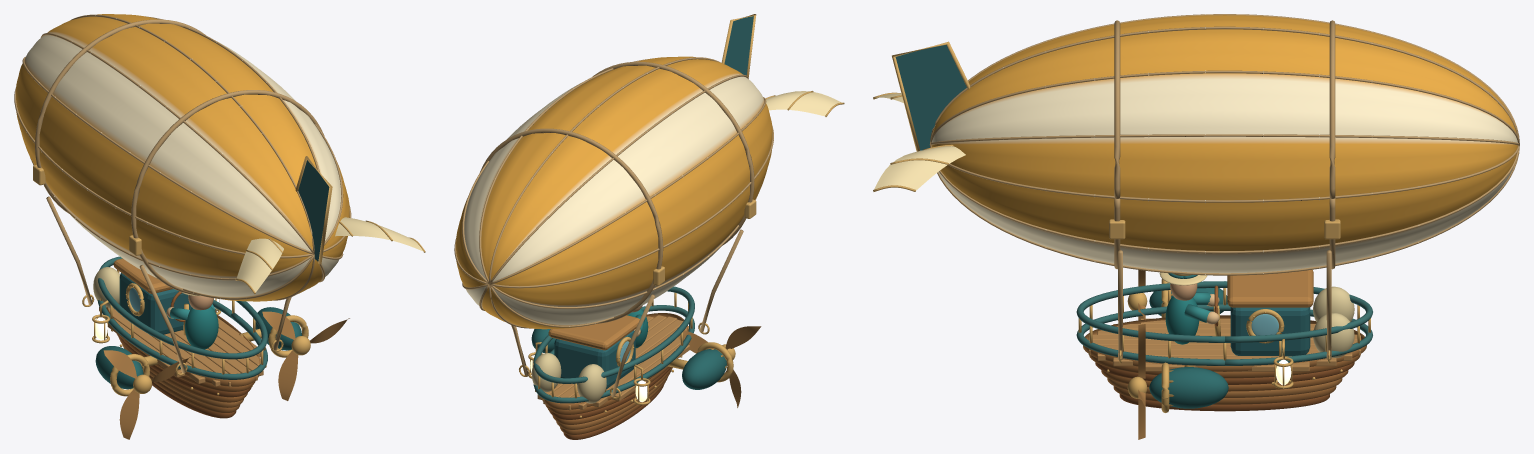
Rendered from airship.glb.
3 views of the same model, side by side, from view 1: azimuth 30°, elevation 25°; view 2: azimuth 150°, elevation 25°; view 3: azimuth 270°, elevation 25° (orthographic). The views are drawn at different scales.
Parts seen in each view (by area): view 1: airship_fixed_Woven canvas, airship_fixed_Hemp rigging, airship_fixed_Enamel, airship_fixed_Oiled cedar, airship_fixed_Brushed brass, airship_rotor_left_Oiled cedar, airship_rotor_right_Oiled cedar; view 2: airship_fixed_Woven canvas, airship_fixed_Hemp rigging, airship_fixed_Enamel, airship_fixed_Oiled cedar, airship_fixed_Brushed brass, airship_rotor_left_Oiled cedar; view 3: airship_fixed_Woven canvas, airship_fixed_Enamel, airship_fixed_Hemp rigging, airship_fixed_Oiled cedar, airship_fixed_Brushed brass, airship_rotor_right_Oiled cedar.
Boxes of the visible parts, bbox=[...] form: airship_fixed_Woven canvas: bbox=[16, 14, 423, 308]; airship_fixed_Hemp rigging: bbox=[14, 14, 351, 373]; airship_fixed_Enamel: bbox=[95, 160, 329, 389]; airship_fixed_Oiled cedar: bbox=[99, 258, 266, 418]; airship_fixed_Brushed brass: bbox=[33, 156, 425, 396]; airship_rotor_left_Oiled cedar: bbox=[103, 350, 191, 439]; airship_rotor_right_Oiled cedar: bbox=[262, 311, 349, 400]; airship_fixed_Woven canvas: bbox=[456, 56, 841, 403]; airship_fixed_Hemp rigging: bbox=[454, 57, 773, 397]; airship_fixed_Enamel: bbox=[531, 16, 753, 403]; airship_fixed_Oiled cedar: bbox=[535, 313, 689, 439]; airship_fixed_Brushed brass: bbox=[519, 14, 844, 417]; airship_rotor_left_Oiled cedar: bbox=[678, 326, 761, 407]; airship_fixed_Woven canvas: bbox=[874, 14, 1517, 357]; airship_fixed_Enamel: bbox=[895, 44, 1372, 408]; airship_fixed_Hemp rigging: bbox=[930, 14, 1519, 359]; airship_fixed_Oiled cedar: bbox=[1083, 269, 1366, 411]; airship_fixed_Brushed brass: bbox=[873, 41, 1370, 412]; airship_rotor_right_Oiled cedar: bbox=[1138, 324, 1145, 439].
Bounding box in the file's own units: 4.88 × 6.37 × 9.92.
